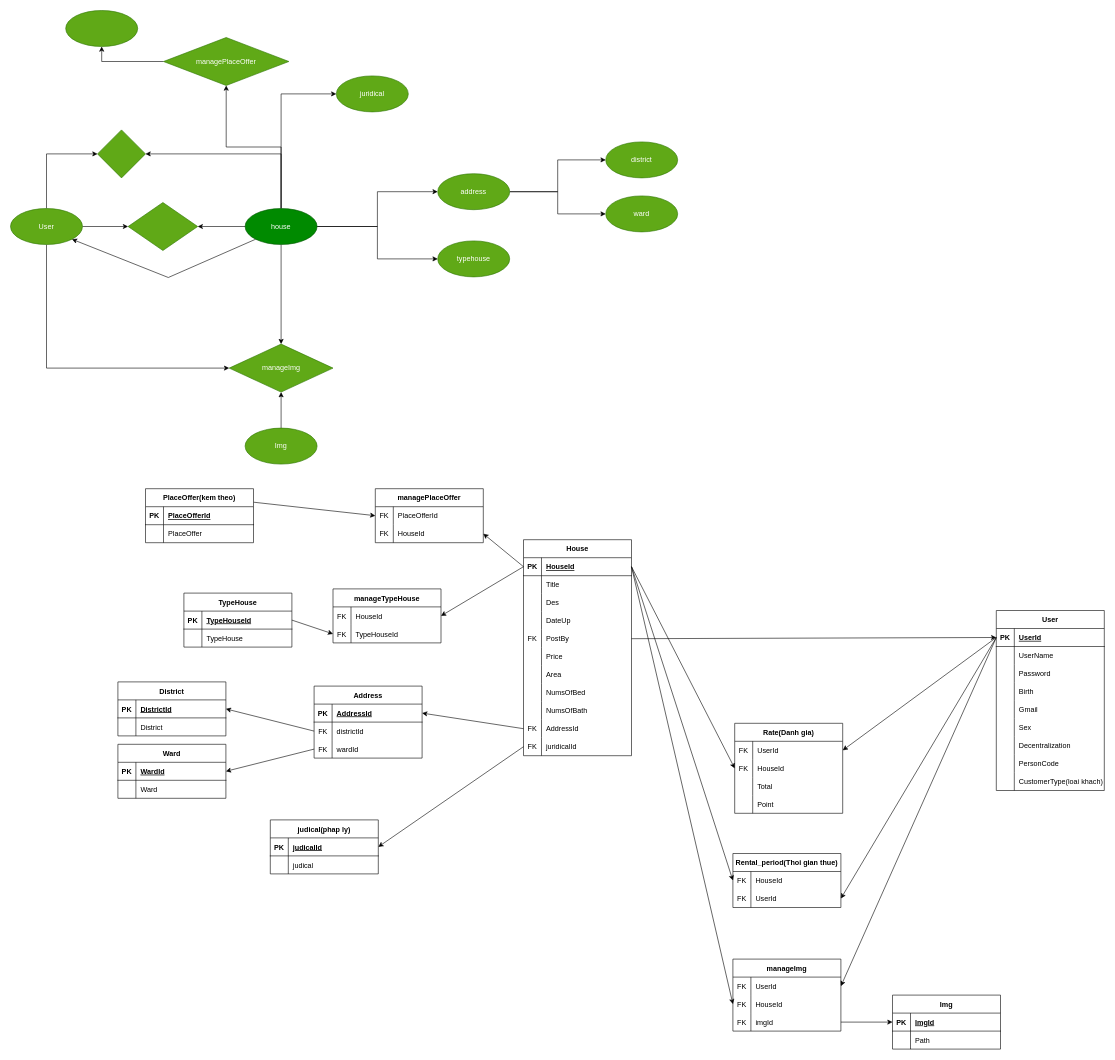
Some shapes in this 1115 by 1060 pixel diagram are drawn without their labels. The shapes that lost their labels are listed below. From the top down, each one's centre as x and y in pixels, then its label:
At point 101,28: "place_offer".
At point 121,153: "rate".
At point 163,226: "rental_period".
